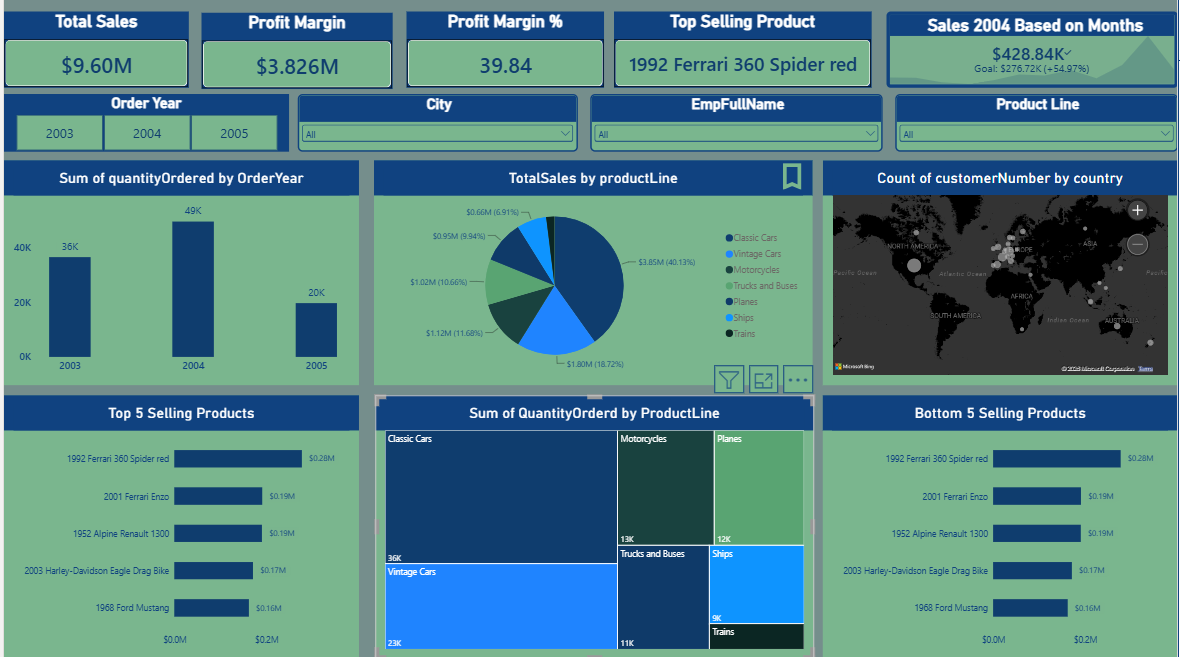

This screenshot's page, from the dashboard's own definition file:
{"tool":"powerbi","page":{"name":"Page 1","canvas":[1920,1080],"ordinal":0},"visuals":[{"type":"cardVisual","title":"Profit Margin","fields":{"Data":["order_details.TotalProfit"]},"box":[323.1,22.5,312.9,124.8],"z":0},{"type":"cardVisual","title":"Total Sales","fields":{"Data":["order_details.TotalSales"]},"box":[0,20.5,302.7,124.8],"z":1000},{"type":"cardVisual","title":"Top Selling Product","fields":{"Data":["order_details.MostOrderedProduct"]},"box":[998,20.5,421.3,124.8],"z":2000},{"type":"slicer","title":"Order Year","fields":{"Values":["orders.OrderYear"]},"box":[0,155.4,466.3,94.1],"z":3000},{"type":"kpi","title":"Sales 2004 Based on Months","fields":{"Goal":["order_details.sales_2003"],"Indicator":["order_details.sales_2004"],"TrendLine":["orders.Month Name"]},"box":[1443.9,20.5,476.5,124.8],"z":4000},{"type":"map","fields":{"Category":["customers.country"],"Size":["CountNonNull(customers.customerNumber)"]},"box":[1339.6,263.8,580.8,368.1],"z":5000},{"type":"cardVisual","title":"Profit Margin %","fields":{"Data":["order_details.Profit_Margin_%"]},"box":[658.5,20.5,323.1,124.8],"z":6000},{"type":"slicer","title":"City","fields":{"Values":["offices.city"]},"box":[480.6,155.4,458.1,94.1],"z":7000},{"type":"slicer","title":"EmpFullName","fields":{"Values":["customers.SalesRepName"]},"box":[959.2,155.4,478.6,94.1],"z":8000},{"type":"slicer","title":"Product Line","fields":{"Values":["productlines.productLine"]},"box":[1458.2,155.4,462.2,94.1],"z":9000},{"type":"clusteredColumnChart","fields":{"Category":["orders.OrderYear"],"Y":["Sum(order_details.quantityOrdered)"]},"box":[0,263.8,580.8,368.1],"z":10000},{"type":"barChart","title":"Top 5 Selling Products","fields":{"Category":["products.productName"],"Y":["order_details.TotalSales"]},"box":[0,648.3,580.8,431.5],"z":11000},{"type":"pieChart","fields":{"Category":["productlines.productLine"],"Y":["order_details.TotalSales"]},"box":[605.4,263.8,717.9,368.1],"z":12000},{"type":"treemap","title":"Sum of QuantityOrderd by ProductLine","fields":{"Group":["products.productLine"],"Values":["Sum(order_details.quantityOrdered)"]},"box":[607.4,648.3,717.9,431.5],"z":13000},{"type":"barChart","title":"Bottom 5 Selling Products","fields":{"Category":["products.productName"],"Y":["order_details.TotalSales"]},"box":[1339.2,648.3,580.8,431.5],"z":14000},{"type":"actionButton","box":[1198.1,222.9,182.4,134.2],"z":15000}]}

Visuals, with their boxes in screenshot pixels (x1, y1, x2, y2), scaled from the page's 1920x1080 canvas onto the 1180x657 screenshot:
"Profit Margin" cardVisual: bbox=[199, 14, 391, 90]
"Total Sales" cardVisual: bbox=[0, 12, 186, 88]
"Top Selling Product" cardVisual: bbox=[613, 12, 872, 88]
"Order Year" slicer: bbox=[0, 95, 287, 152]
"Sales 2004 Based on Months" kpi: bbox=[887, 12, 1179, 88]
map - customers.country x CountNonNull(customers.customerNumber): bbox=[823, 160, 1179, 384]
"Profit Margin %" cardVisual: bbox=[405, 12, 603, 88]
"City" slicer: bbox=[295, 95, 577, 152]
"EmpFullName" slicer: bbox=[590, 95, 884, 152]
"Product Line" slicer: bbox=[896, 95, 1179, 152]
clusteredColumnChart - orders.OrderYear x Sum(order_details.quantityOrdered): bbox=[0, 160, 357, 384]
"Top 5 Selling Products" barChart: bbox=[0, 394, 357, 656]
pieChart - productlines.productLine x order_details.TotalSales: bbox=[372, 160, 813, 384]
"Sum of QuantityOrderd by ProductLine" treemap: bbox=[373, 394, 815, 656]
"Bottom 5 Selling Products" barChart: bbox=[823, 394, 1179, 656]
actionButton: bbox=[736, 136, 848, 217]
